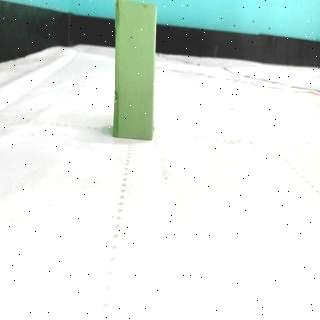greenbox: (112, 0, 158, 140)
